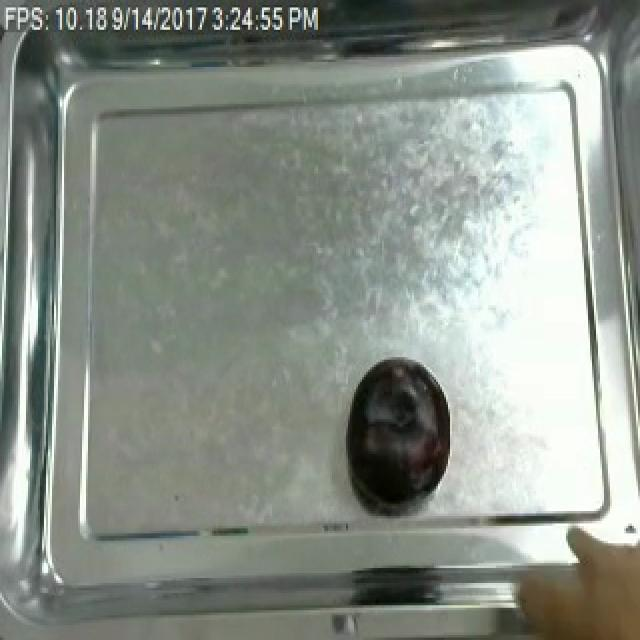Fruit: (340, 355, 454, 506)
